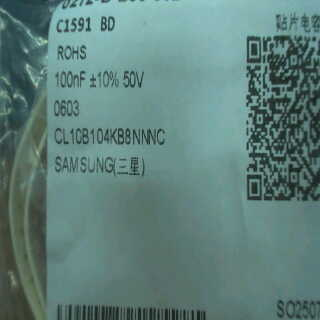100nF: (54, 68, 88, 89)
